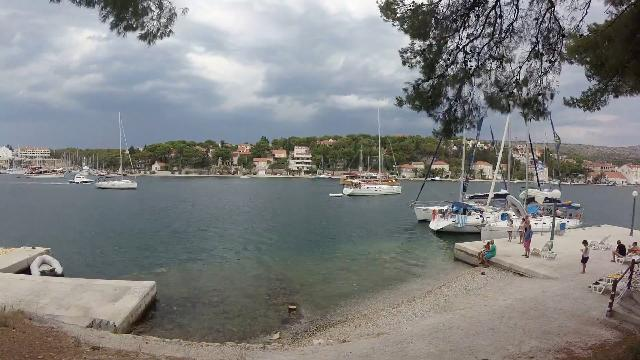Freighter: (22, 161, 68, 181)
Sailboat: (338, 177, 404, 199), (93, 166, 141, 194)
speedboat: (65, 172, 98, 186), (238, 172, 256, 182)
